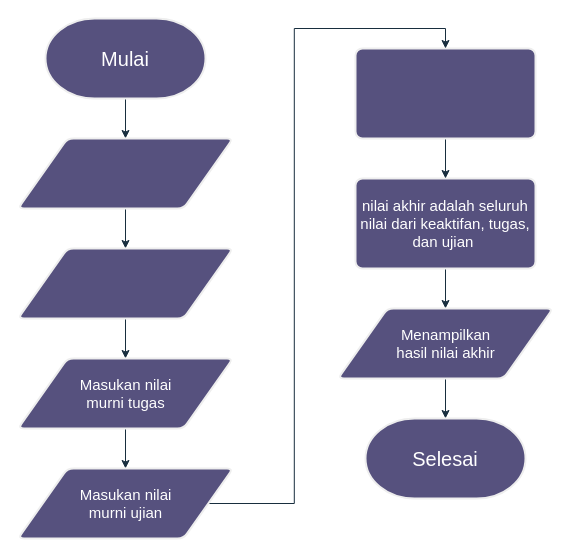
This 571x556 diagram has some shape labels left out. The shapes that lost their labels are listed below. From the top down, each one's centre as x and y in pixels, then its label:
point 445,93: nilai keaktifan * 20% nilai tugas * 50% nilai ujian * 30%
point 125,173: Memasukan nama mahasiswa
point 125,283: Masukan nilai murni keaktifan
